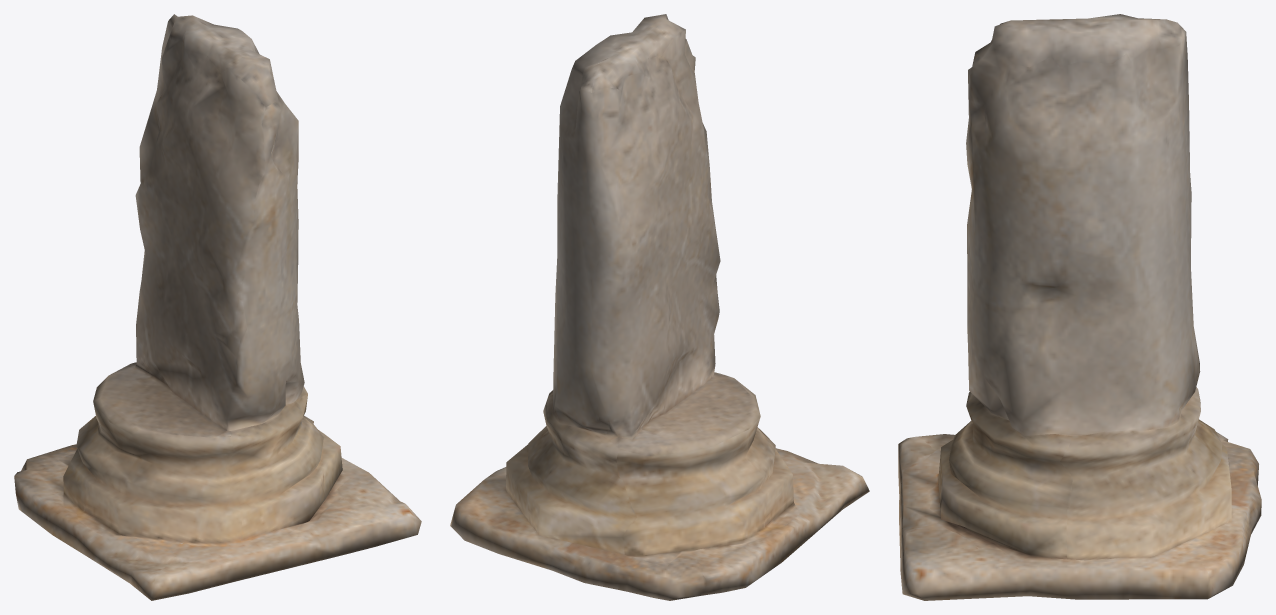
Rendered from Q_PillarBroken.fbx.
3 renders of one model, left to right at view 1: azimuth 30°, elevation 25°; view 2: azimuth 150°, elevation 25°; view 3: azimuth 270°, elevation 25°, orthographic. The views are drawn at different scales.
Parts seen in each view (by area): view 1: Aset_stone_carved_M_tkjqbecfa_LOD5; view 2: Aset_stone_carved_M_tkjqbecfa_LOD5; view 3: Aset_stone_carved_M_tkjqbecfa_LOD5.
Part boxes in pixels (<box>): Aset_stone_carved_M_tkjqbecfa_LOD5: <box>14,14,421,600</box>; Aset_stone_carved_M_tkjqbecfa_LOD5: <box>450,14,869,600</box>; Aset_stone_carved_M_tkjqbecfa_LOD5: <box>898,14,1261,600</box>.
Size of the model in its own units: 22.89 by 35.78 by 22.87.
